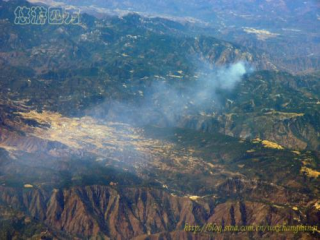smoke: (186, 51, 265, 106)
